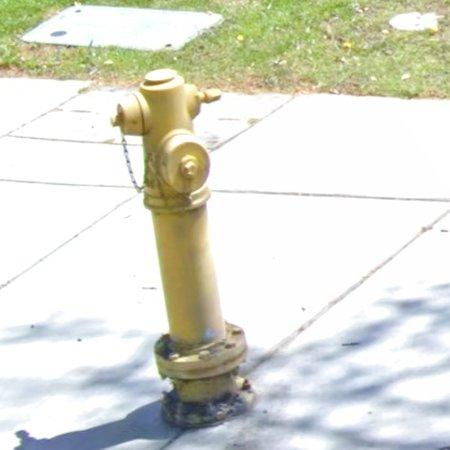a fire hydrant: (114, 69, 250, 428)
